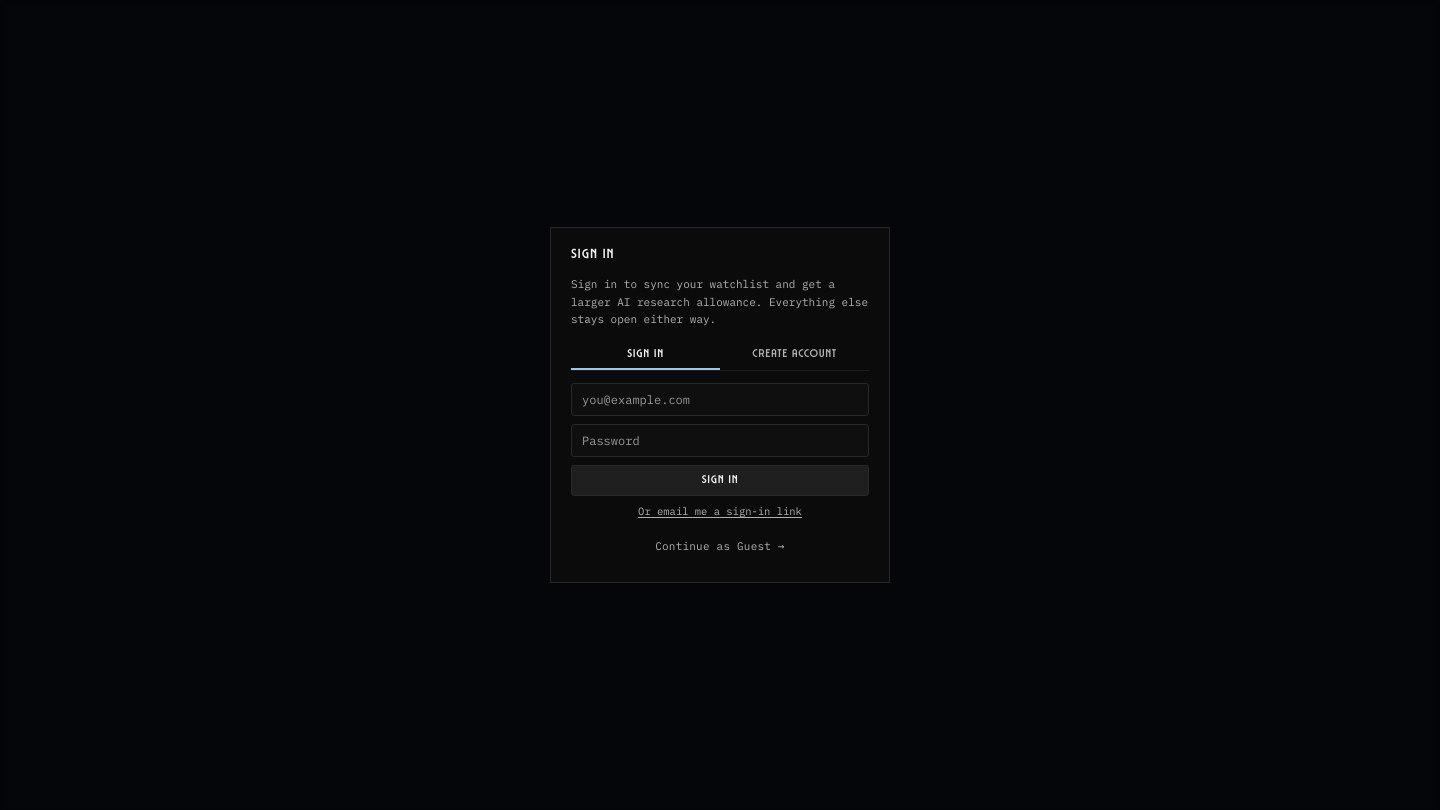
it: SignInDialog › shows the resolved message after a submit
Step 1. Click the button "Create account" → (794, 355), box [720,341,869,370]
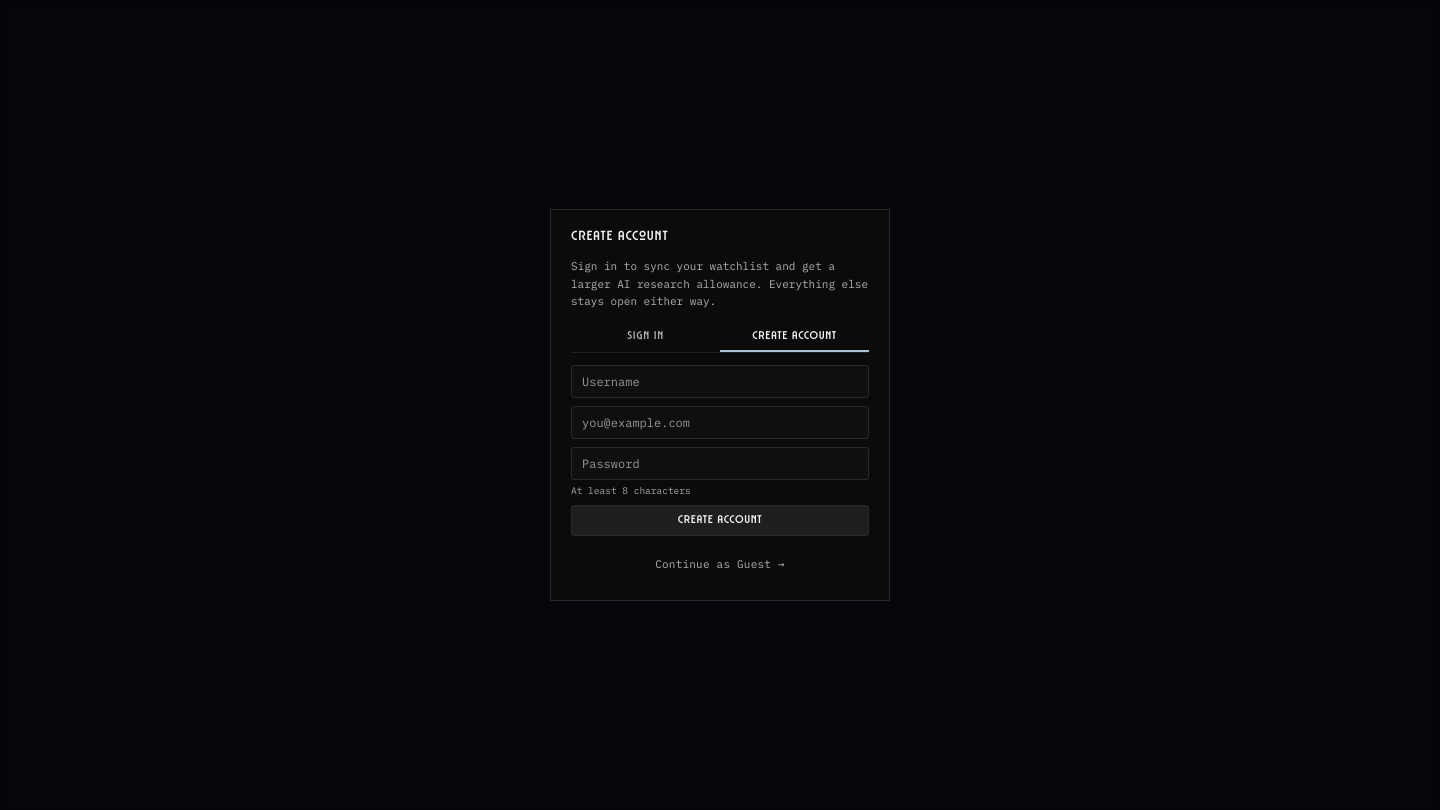
Step 2. Type "nigelnh" into the field with placeholder "Username" → (720, 381), box [571,365,869,398]
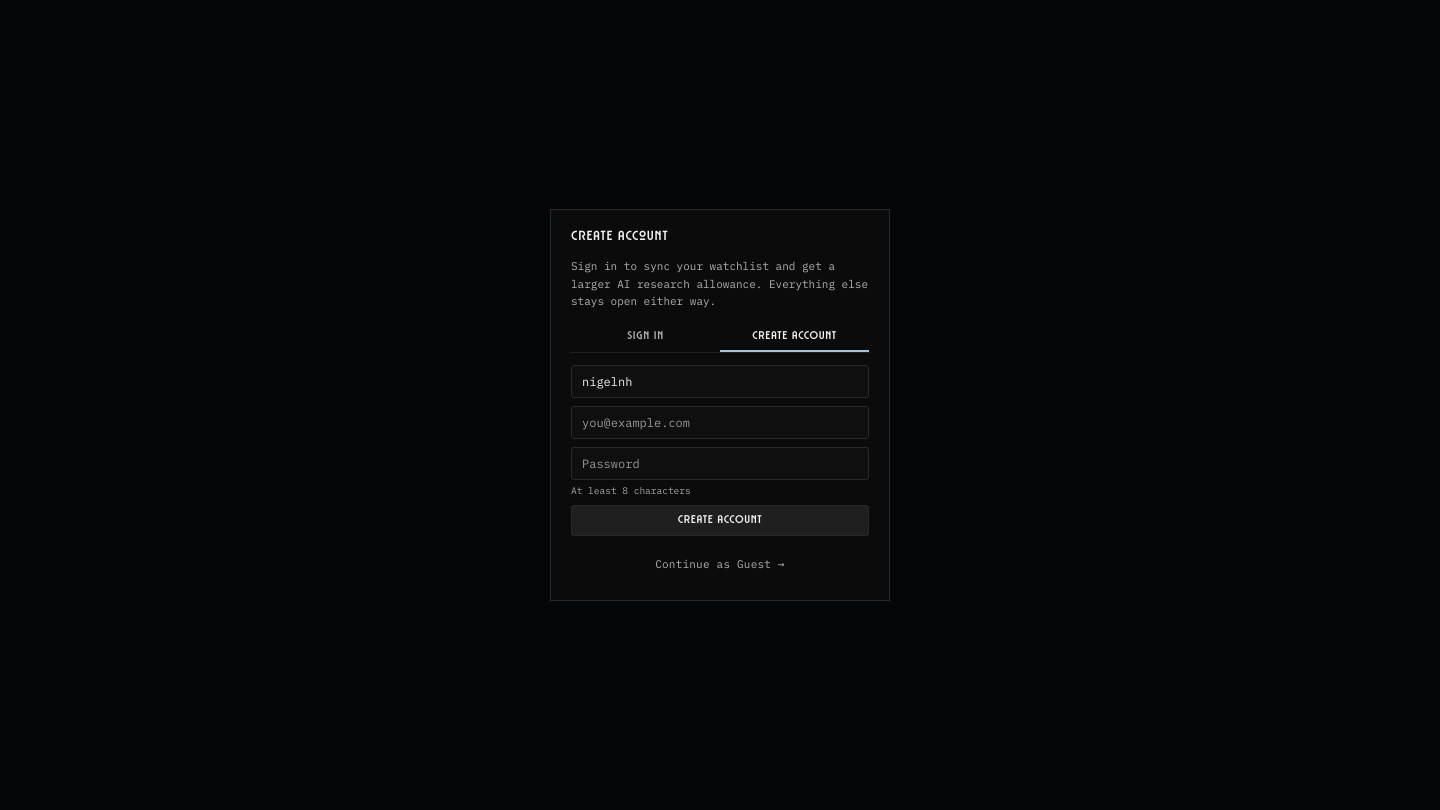
Step 3. Type "a@b.com" into the field with placeholder "you@example.com" → (720, 422), box [571,406,869,439]
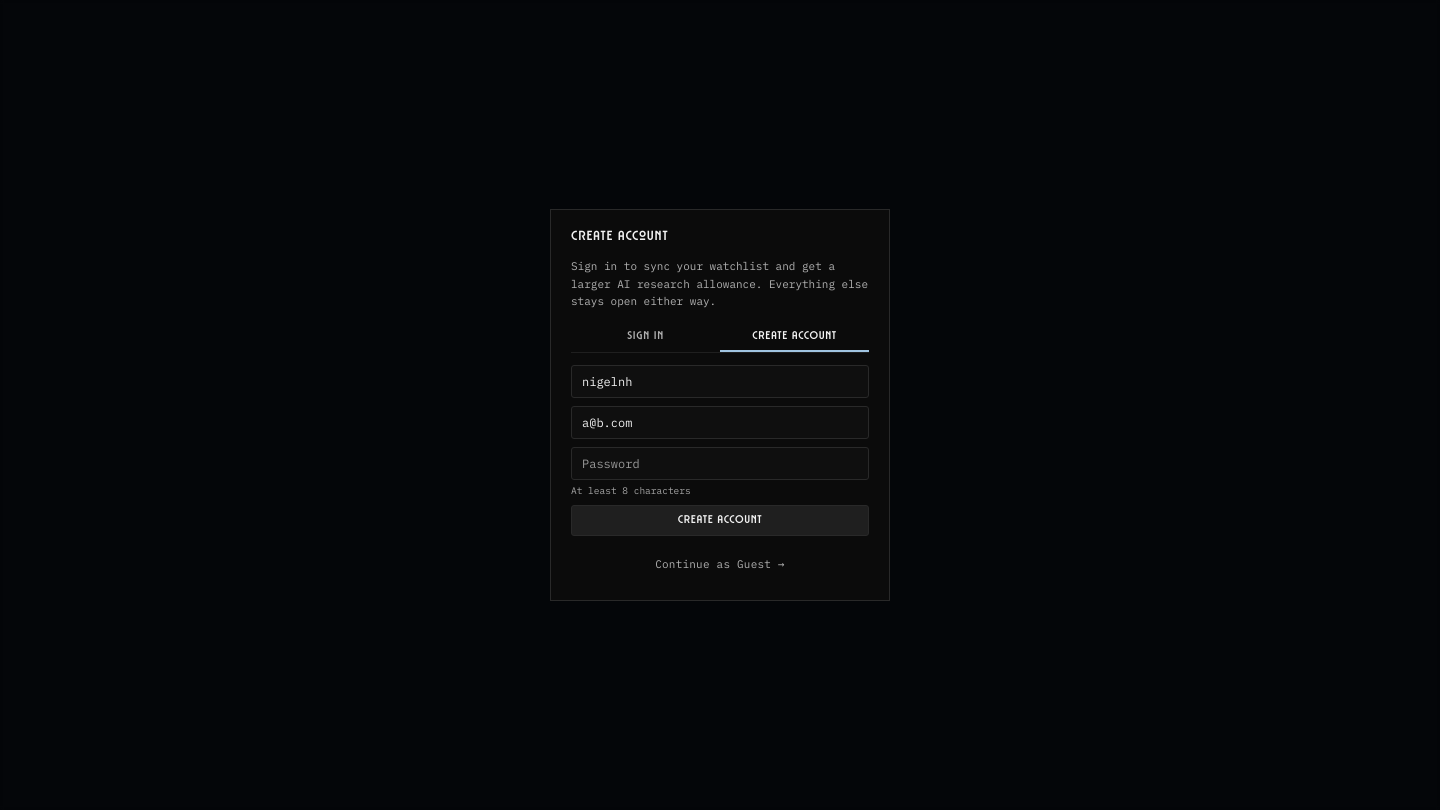
Step 4. Type "hunter22" into the password field with placeholder "Password" → (720, 463), box [571,447,869,480]
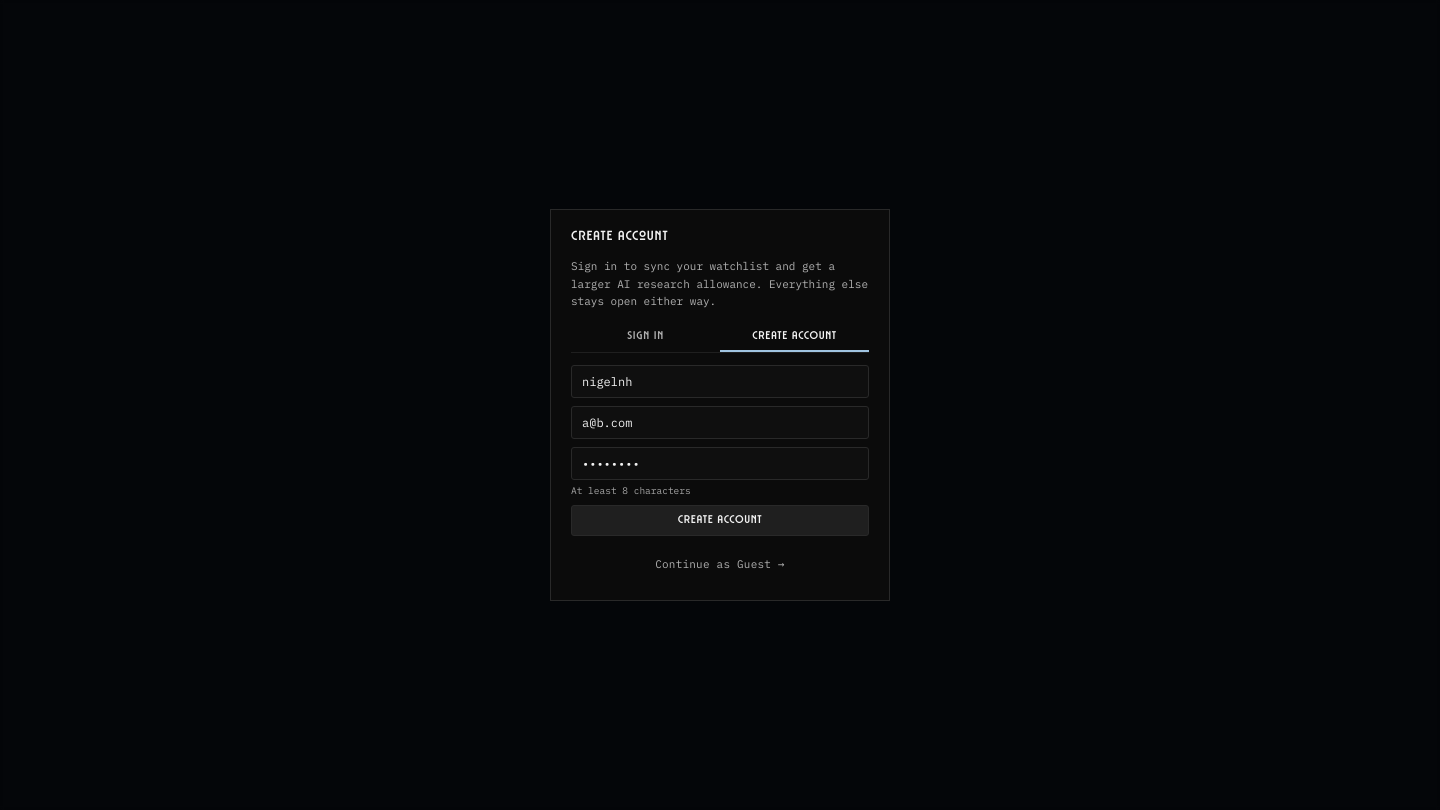
Step 5. Click the button "Create account" below "At least 8 characters" → (720, 520), box [571,505,869,536]
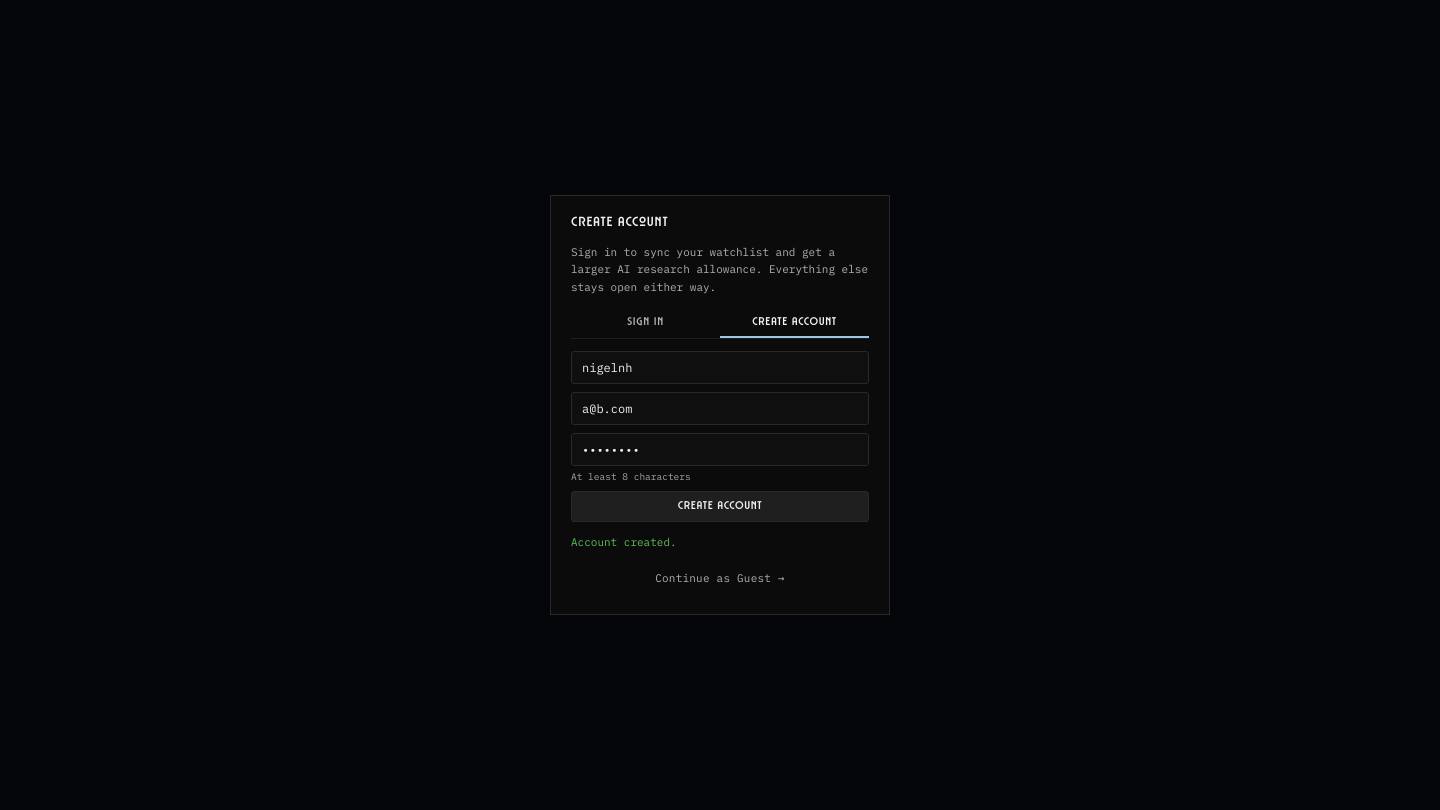
Result: the text "Account created." is shown at [571,535,677,549]
